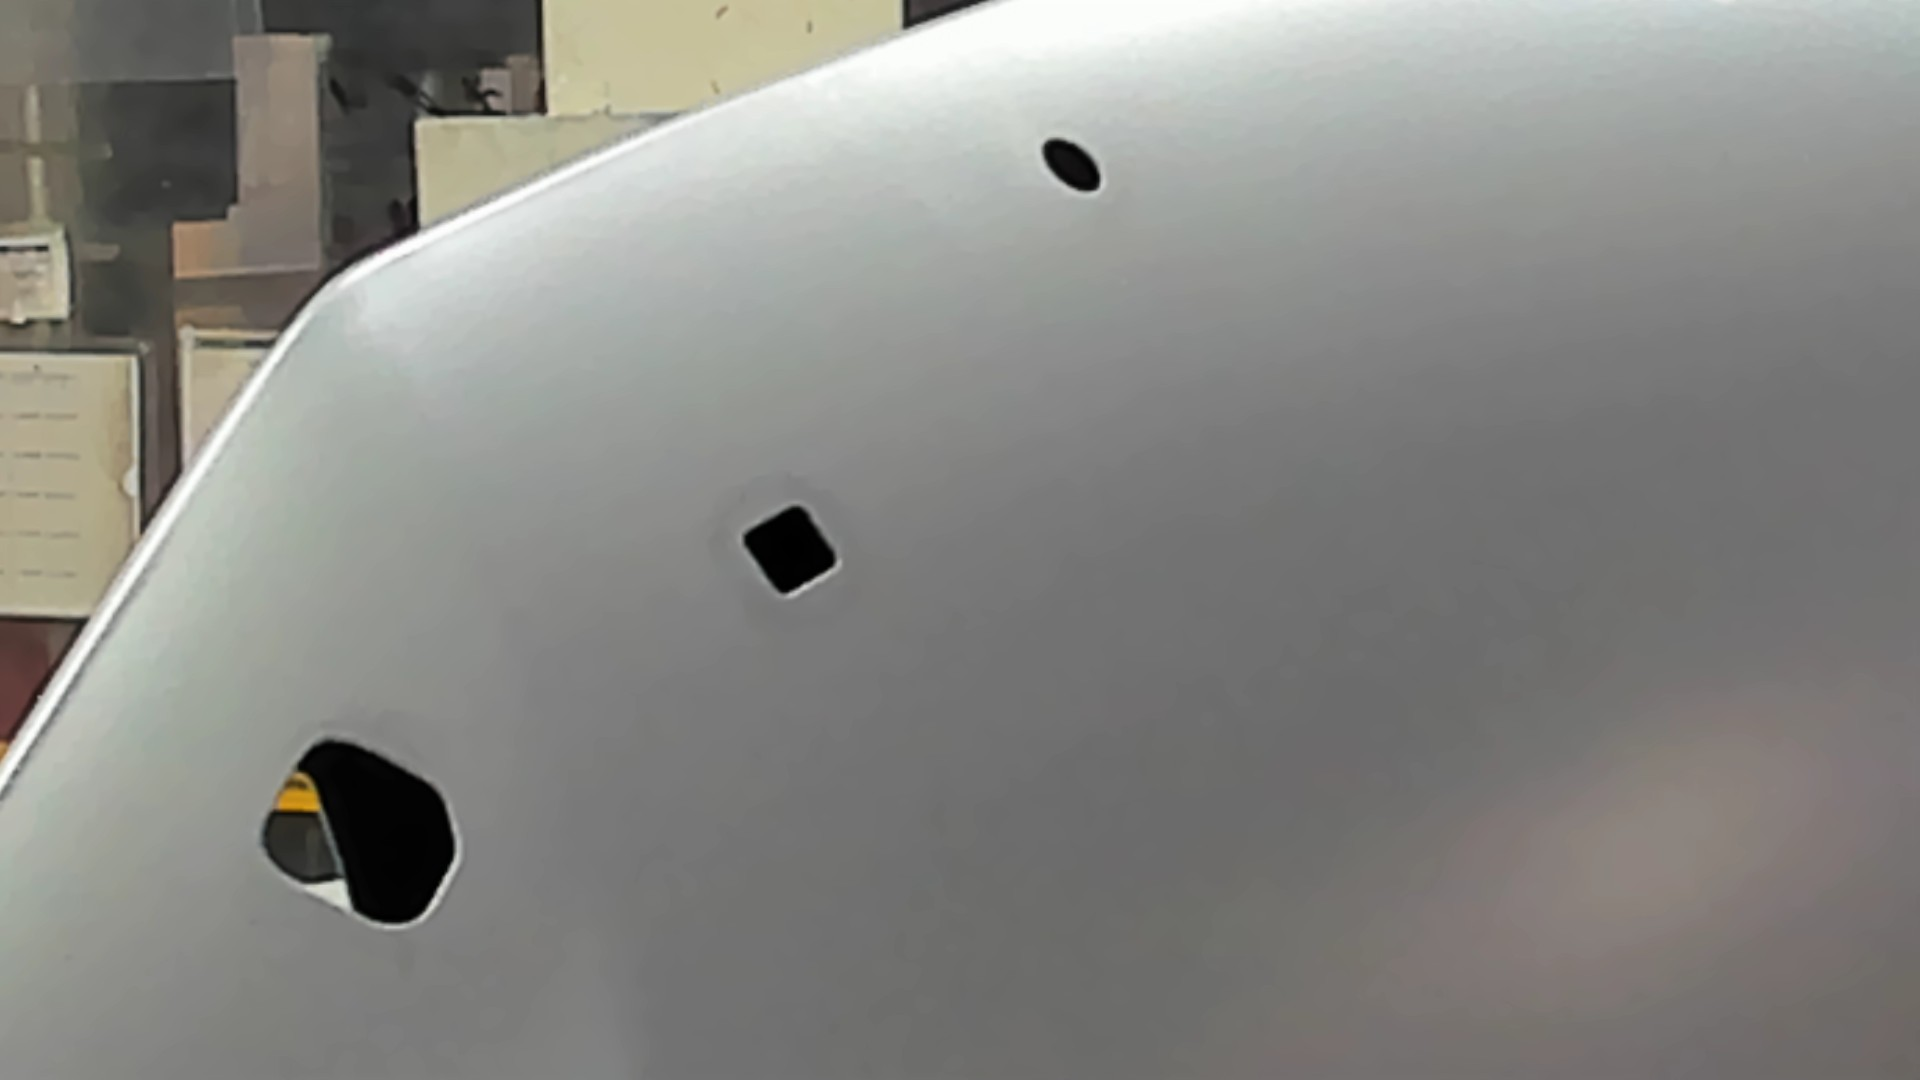capo: (852, 203, 1920, 1080)
chico: (1036, 132, 1106, 196)
grande: (252, 727, 464, 938)
mediano: (733, 497, 847, 605)
